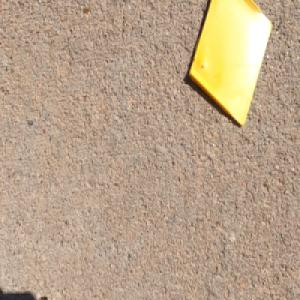PlasticPart: (187, 0, 272, 127)
